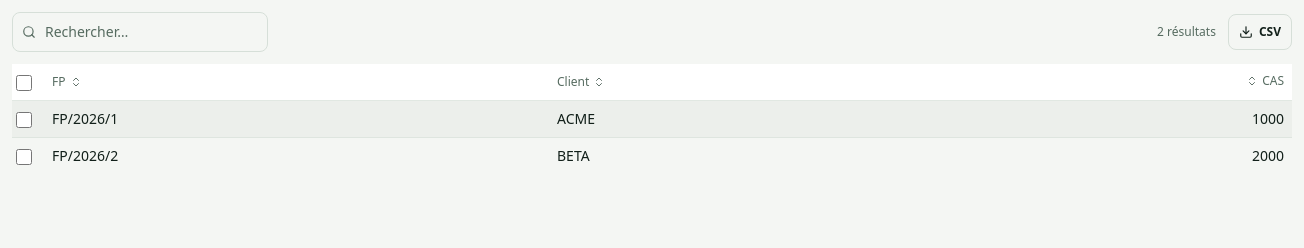
Test: Table / ListView — sélection multiple + actions en masse › ListView : sélection + barre d'actions
The width and height of the screenshot is (1304, 248).
Click the checkbox named "Sélectionner la ligne" next to "FP/2026/1" at coordinates (24, 120), box [16,112,32,128]
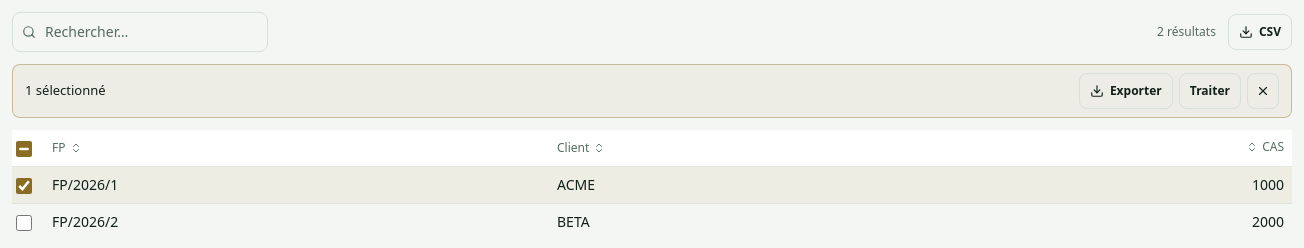
Expected: the text "1 sélectionné" is shown, [25,81,106,101]
